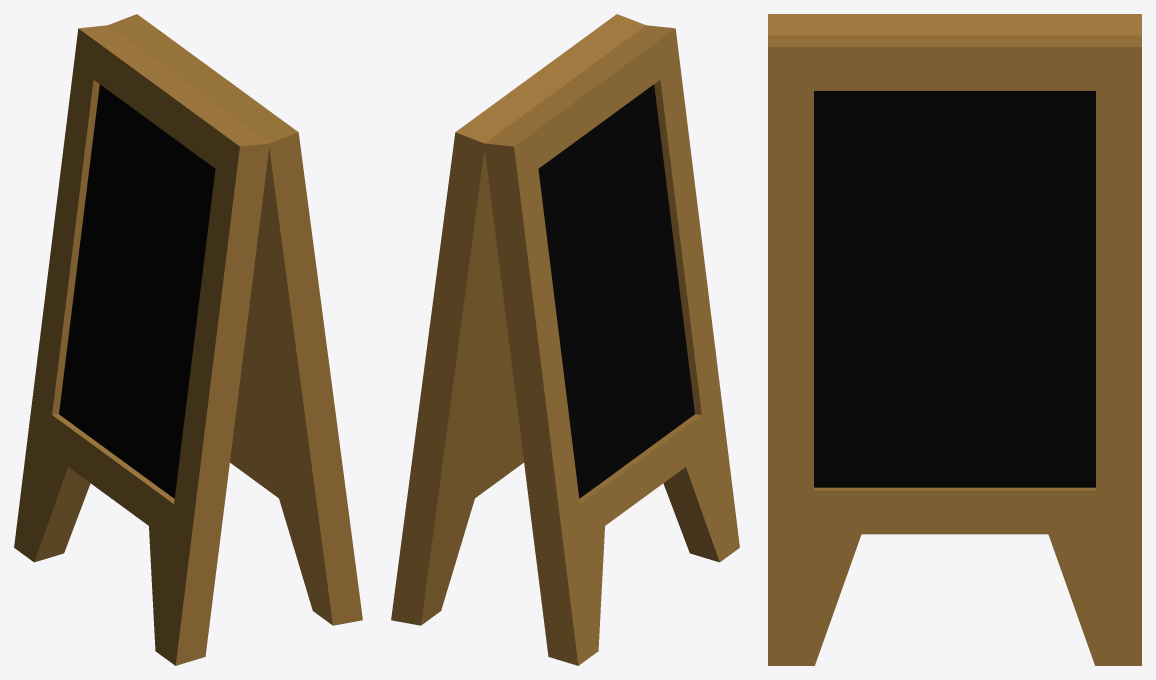
The model's file is MenuStand.glb.
3 views of the same model, side by side, from view 1: azimuth 30°, elevation 25°; view 2: azimuth 150°, elevation 25°; view 3: azimuth 270°, elevation 25° (orthographic). The views are drawn at different scales.
Parts seen in each view (by area): view 1: MenuStand2, MenuStand; view 2: MenuStand2, MenuStand; view 3: MenuStand, MenuStand2.
Boxes of the visible parts, <box> form: MenuStand2: <box>14,25,269,665</box>; MenuStand: <box>108,14,362,625</box>; MenuStand2: <box>484,25,739,665</box>; MenuStand: <box>391,14,645,625</box>; MenuStand: <box>768,35,1141,665</box>; MenuStand2: <box>768,14,1141,35</box>.
Bounding box in the file's own units: 1.34 × 3.44 × 2.
